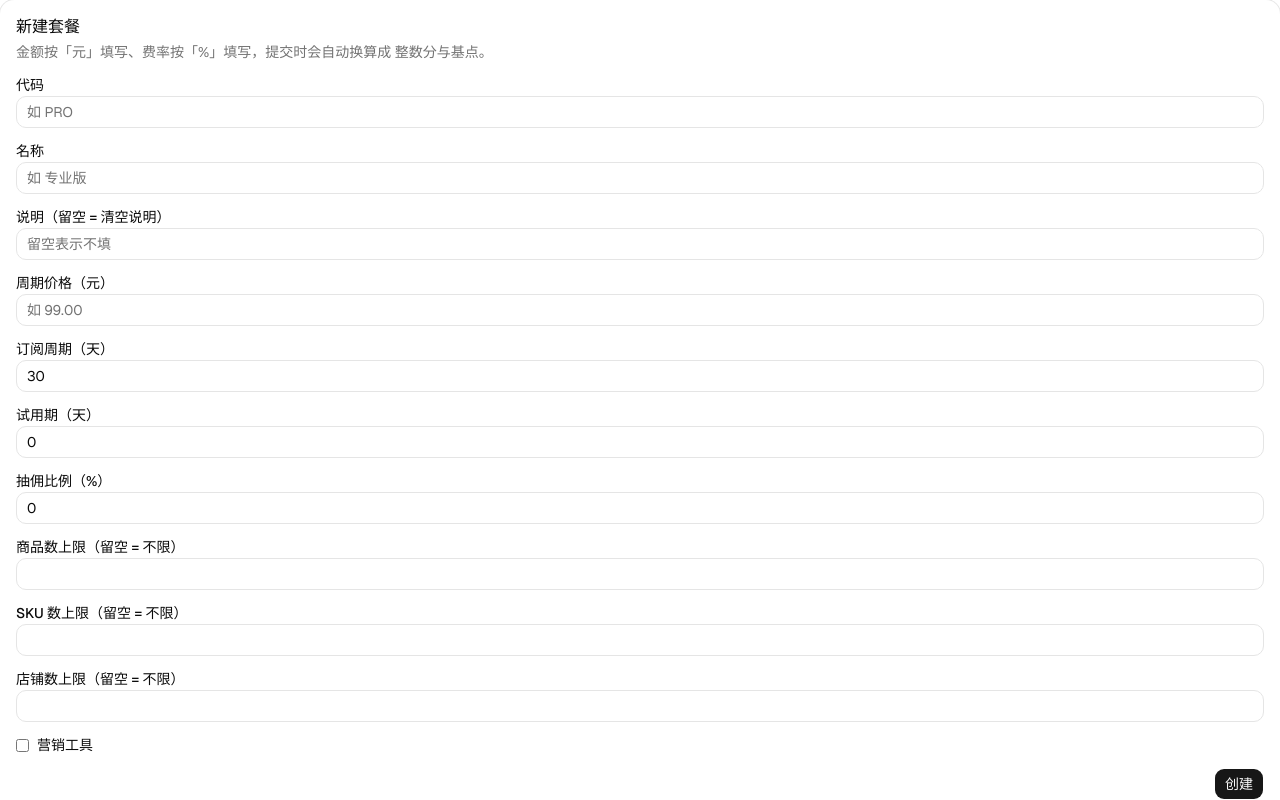
PlanForm：新建套餐 › ⚠️ 价格非法时显示错误提示，且根本不发请求
Step 1. Type "PRO" into the field labelled "代码" → (640, 112), box [16,96,1264,128]
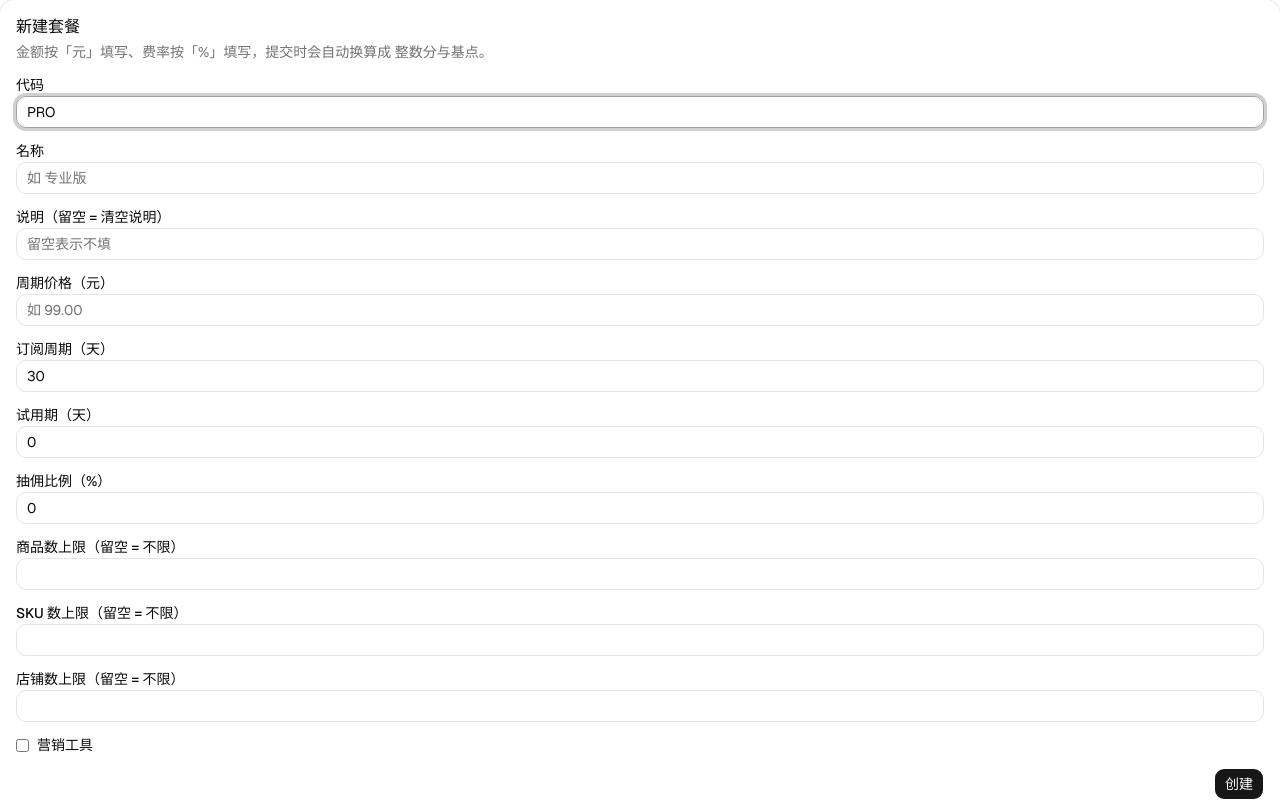
Step 2. Type "专业版" into the field labelled "名称" → (640, 178), box [16,162,1264,194]
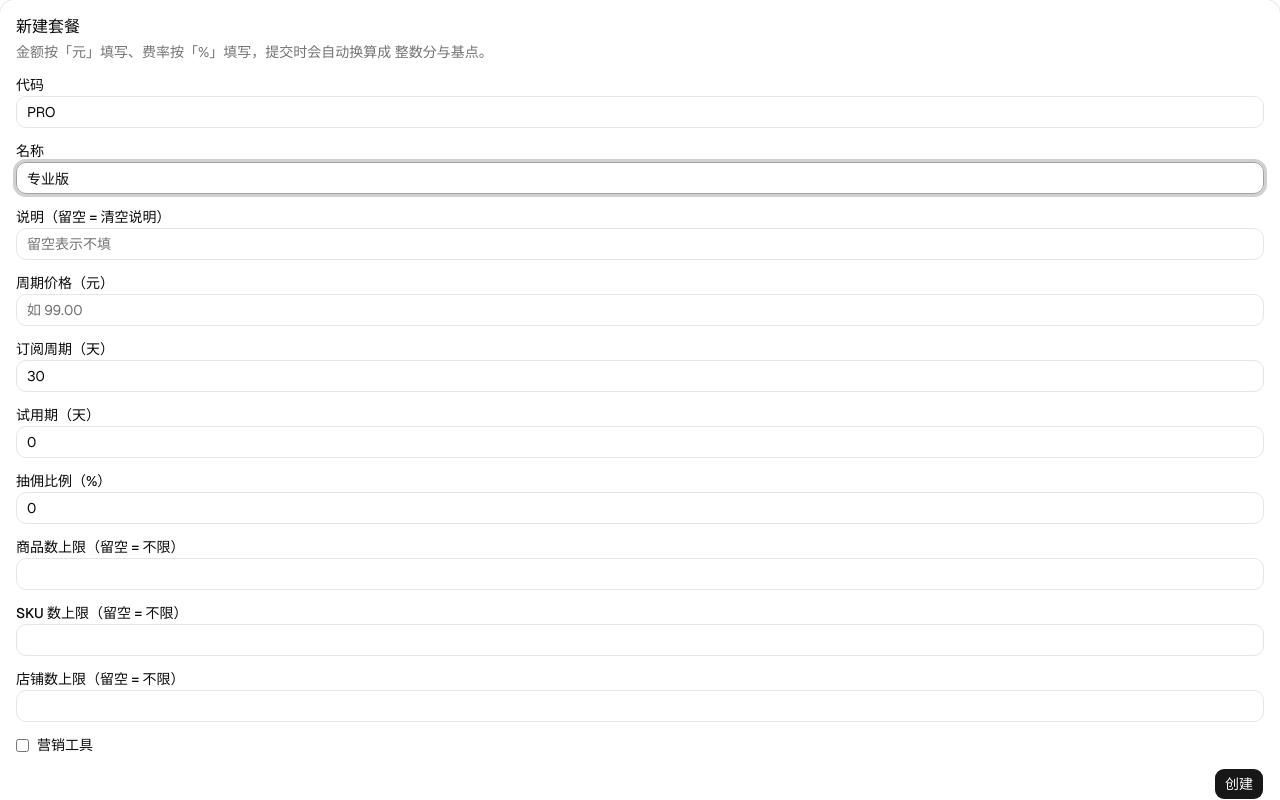
Step 3. Type "abc" into the field labelled "周期价格（元）" → (640, 310), box [16,294,1264,326]
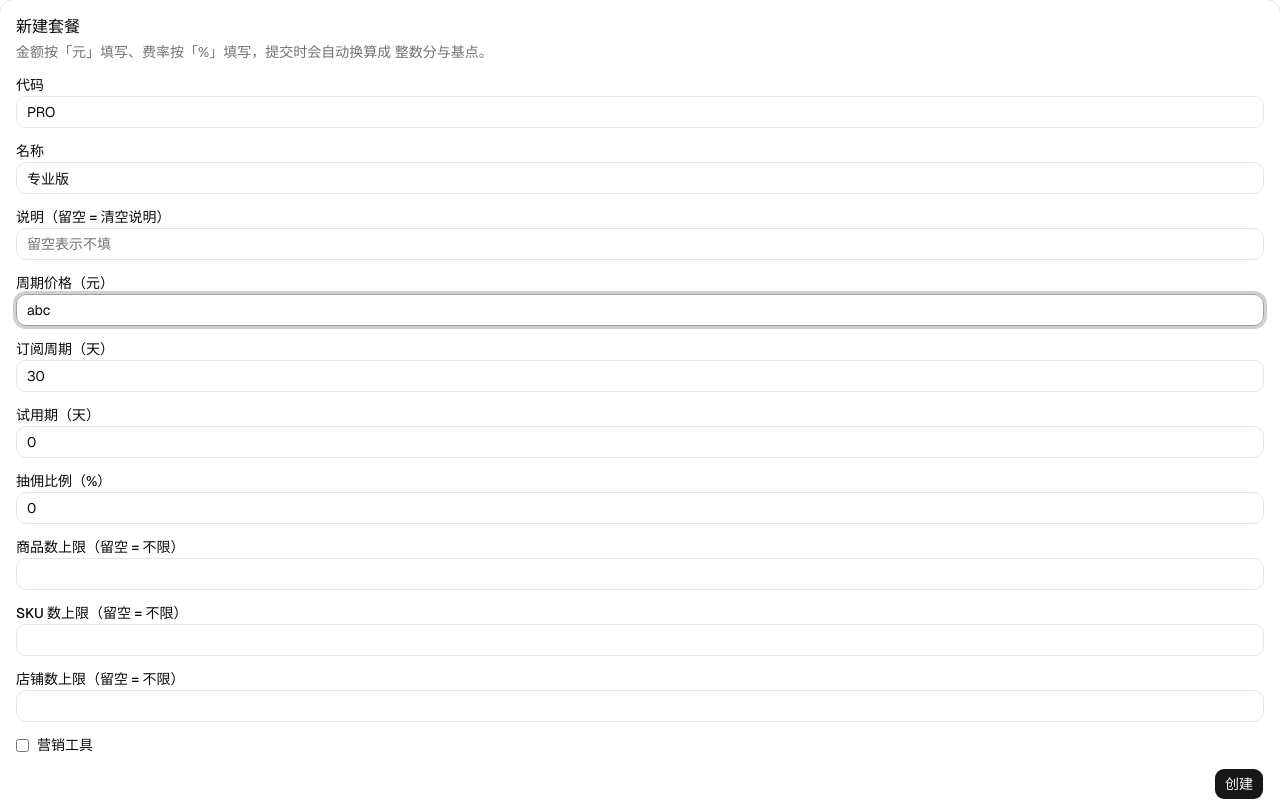
Step 4. Click the button "创建" → (1239, 784), box [1214,768,1264,799]
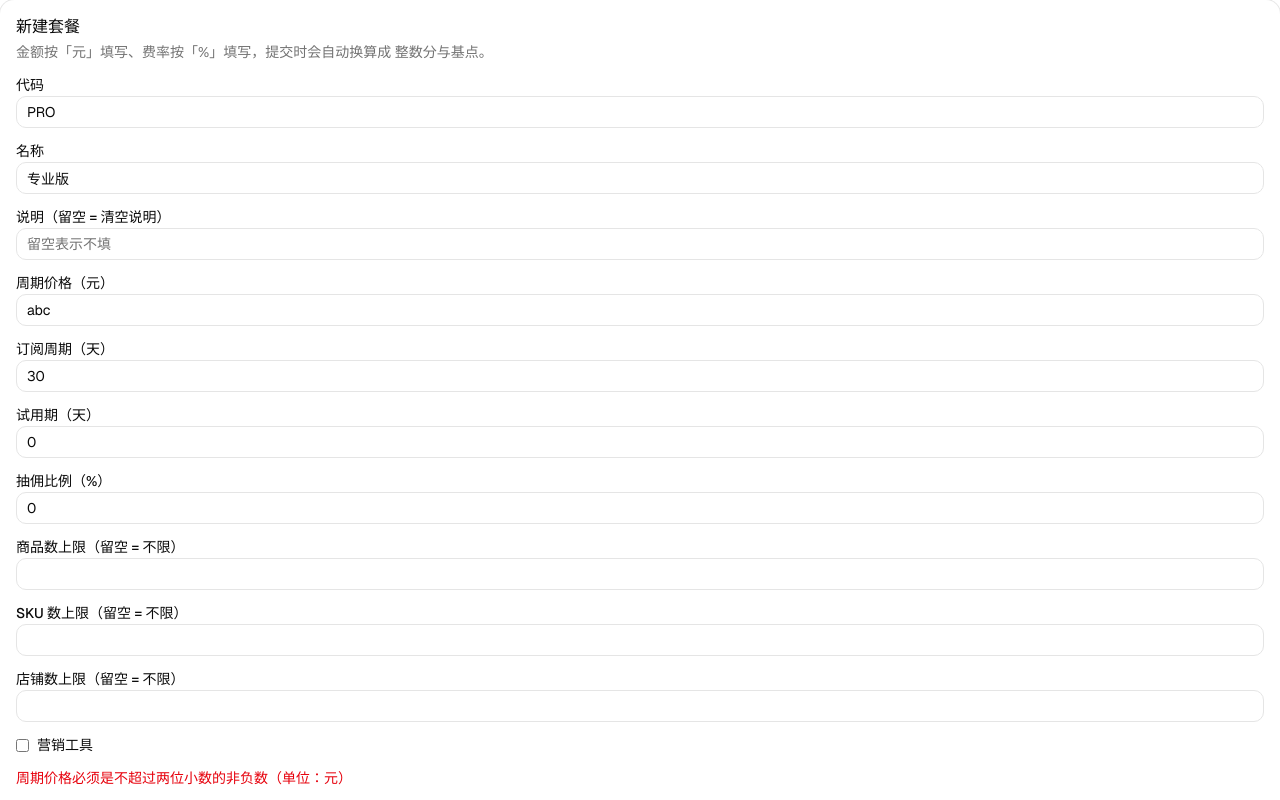
Check: the message shows "周期价格", box [16,769,352,787]
